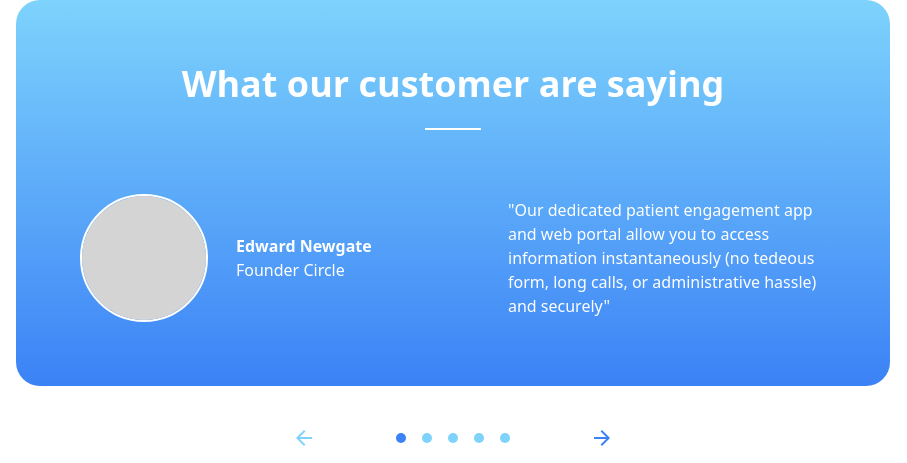
it: <Depoiments /> › should render 1 step correctly when current button is clicked
The image size is (907, 463).
Click the element with test id "depoiments-arrow__id-1" at (427, 438), box [422,433,432,443]
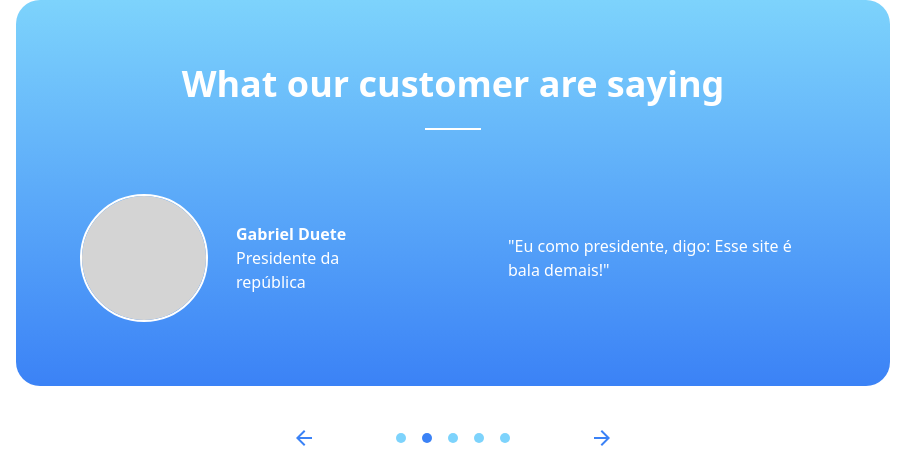
Check: the text "Presidente da república" is shown, box [236,247,339,293]
